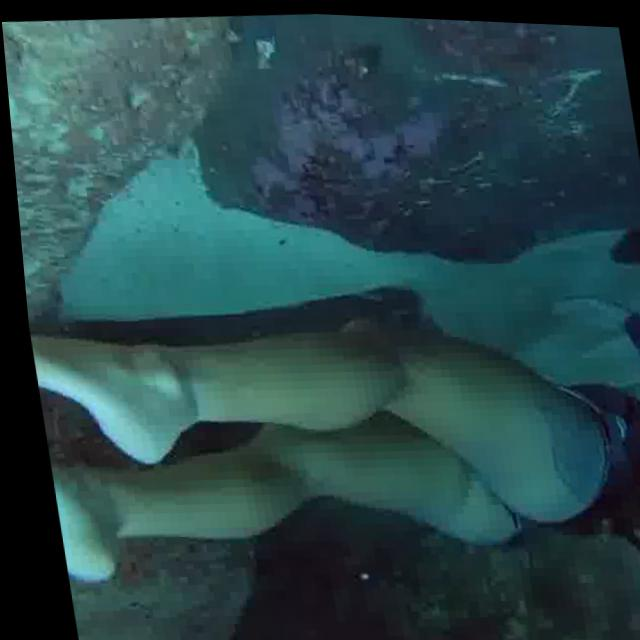human: (17, 240, 640, 621)
